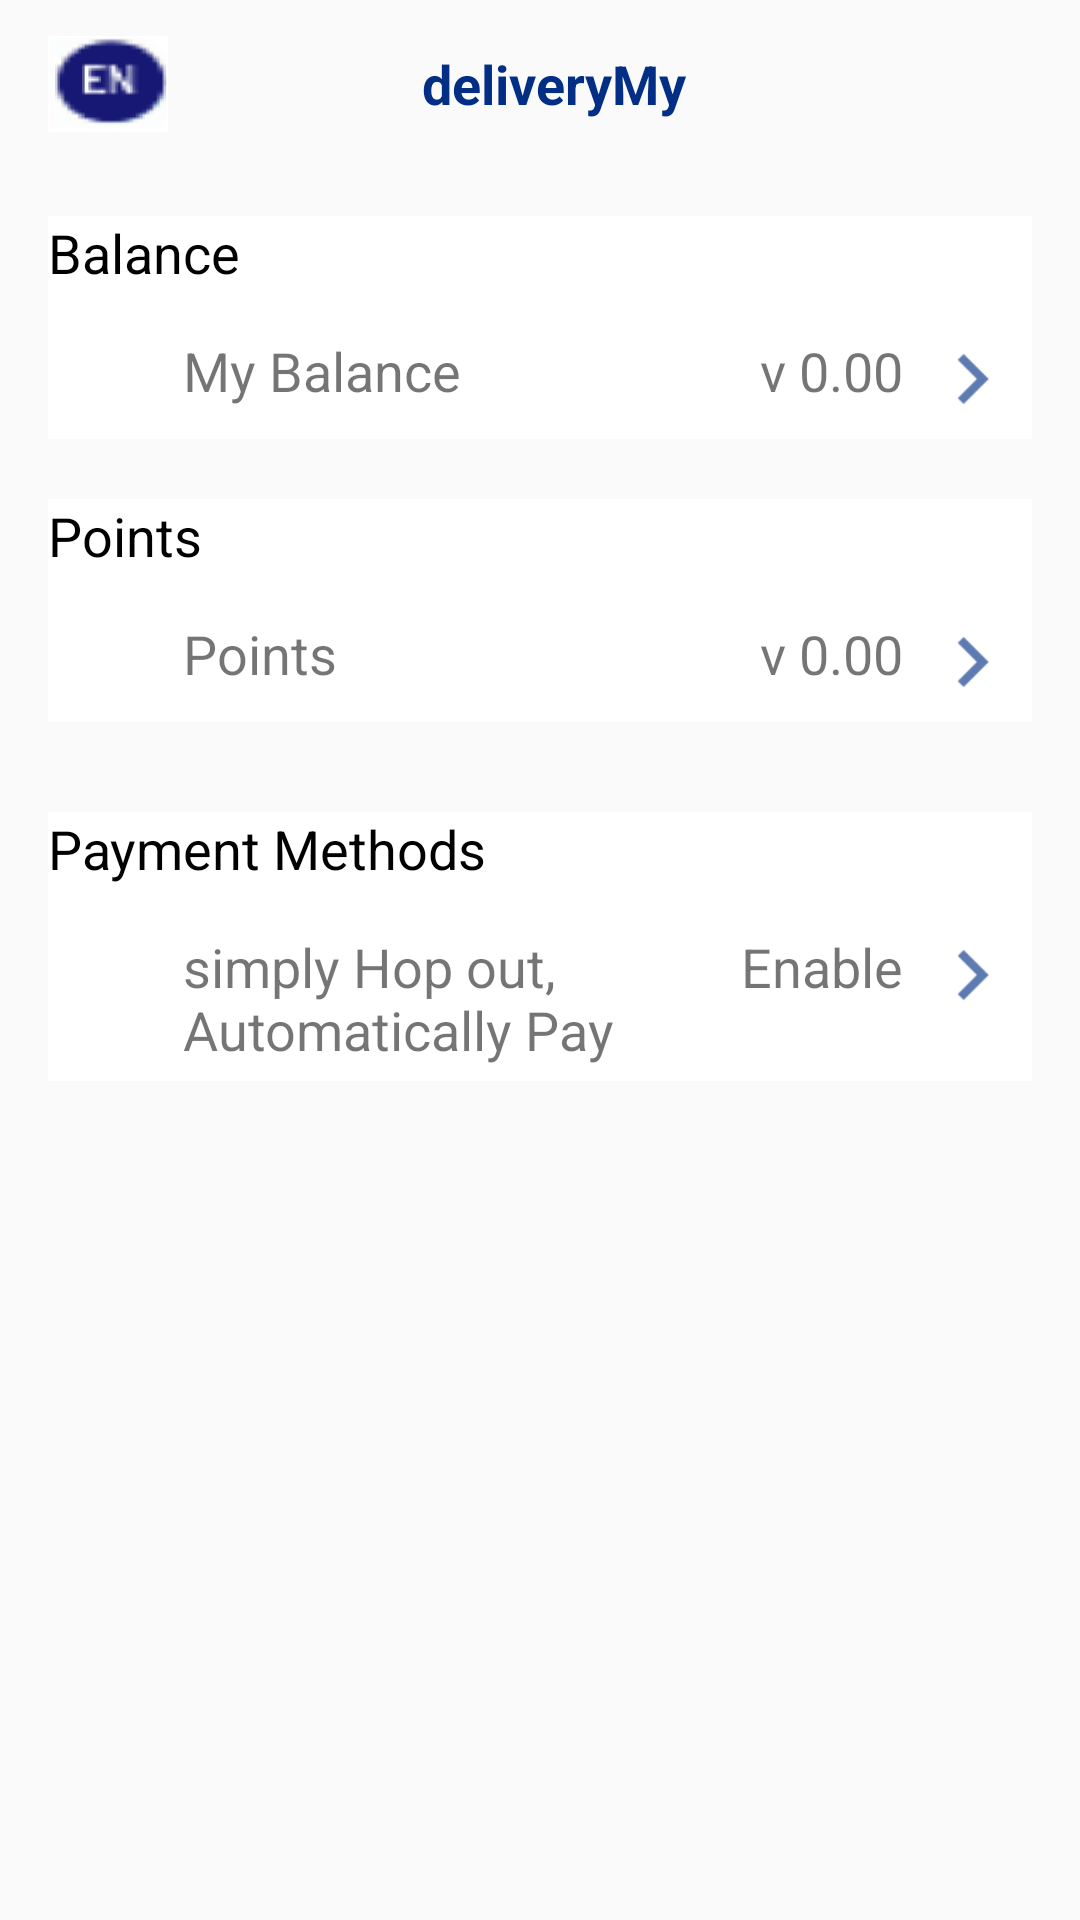

Named icons in this screenshot (1080 × 1920) and their bounding boxes, bbox=(x1, y1, x2, y2):
next: bbox=(958, 354, 989, 404), bbox=(958, 637, 989, 687), bbox=(958, 950, 989, 1000)
